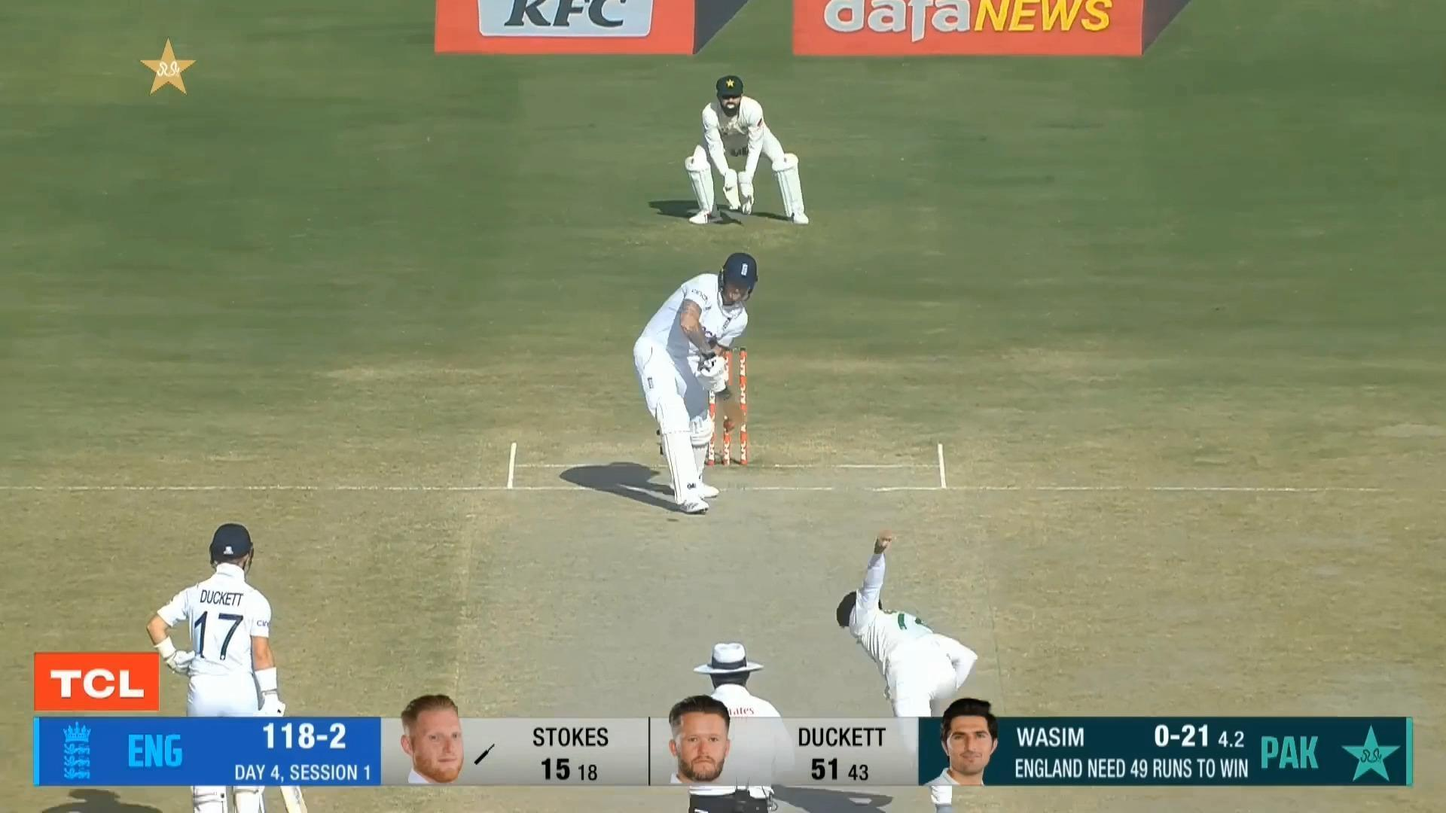BM 1: (632, 251, 761, 517)
BO: (837, 532, 980, 717)
